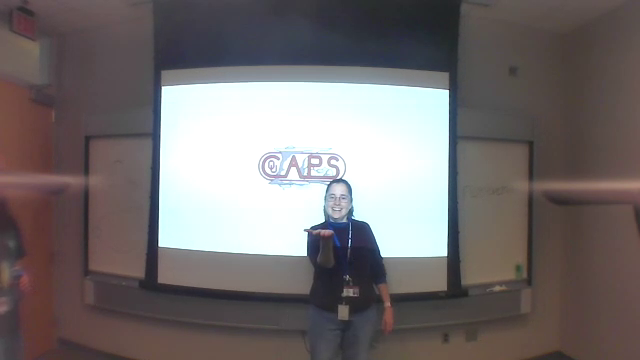land: (302, 226, 339, 244)
